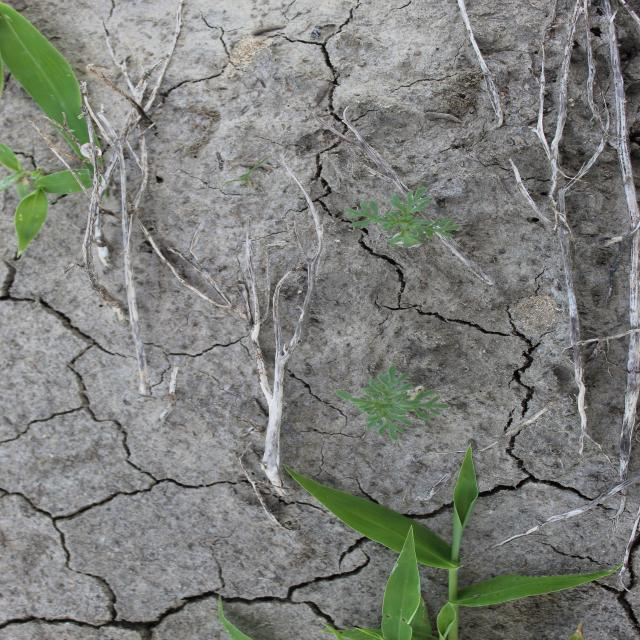Ragweed: (334, 365, 452, 441), (342, 186, 462, 250)
